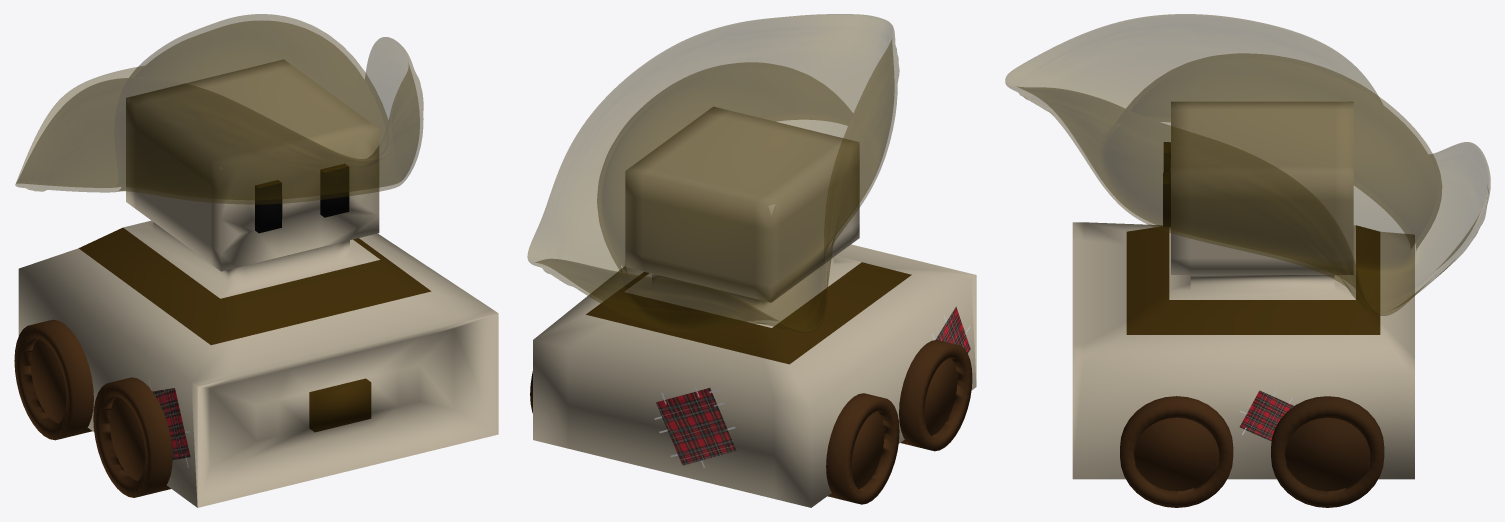
The model's file is robot-farma.glb.
The picture shows the model from 3 angles, left to right: view 1: azimuth 30°, elevation 25°; view 2: azimuth 150°, elevation 25°; view 3: azimuth 270°, elevation 25°; orthographic projection. The views are drawn at different scales.
Parts seen in each view (by area): view 1: Cube, 13543_Tricorn_Hat_v1_l2, Cylinder.002, Cylinder.003, Plane.010; view 2: Cube, 13543_Tricorn_Hat_v1_l2, Cylinder.002, Cylinder.003, Plane.001, Plane.010; view 3: Cube, 13543_Tricorn_Hat_v1_l2, Cylinder, Cylinder.001, Plane.013.
Boxes of the visible parts, x1=… form: Cube: x1=18, y1=59, x2=498, y2=507; 13543_Tricorn_Hat_v1_l2: x1=15, y1=14, x2=423, y2=204; Cylinder.002: x1=14, y1=319, x2=93, y2=440; Cylinder.003: x1=93, y1=377, x2=172, y2=497; Plane.010: x1=152, y1=388, x2=190, y2=460; Cube: x1=533, y1=106, x2=976, y2=507; 13543_Tricorn_Hat_v1_l2: x1=527, y1=14, x2=899, y2=332; Cylinder.002: x1=826, y1=393, x2=899, y2=504; Cylinder.003: x1=899, y1=340, x2=972, y2=451; Plane.001: x1=656, y1=388, x2=736, y2=465; Plane.010: x1=935, y1=306, x2=970, y2=353; Cube: x1=1072, y1=101, x2=1414, y2=479; 13543_Tricorn_Hat_v1_l2: x1=1005, y1=14, x2=1490, y2=315; Cylinder: x1=1120, y1=396, x2=1233, y2=507; Cylinder.001: x1=1271, y1=396, x2=1384, y2=507; Plane.013: x1=1239, y1=390, x2=1294, y2=441.
Size of the model in its own units: 4.16 by 4.46 by 5.27.
9 materials, 1 textured.
